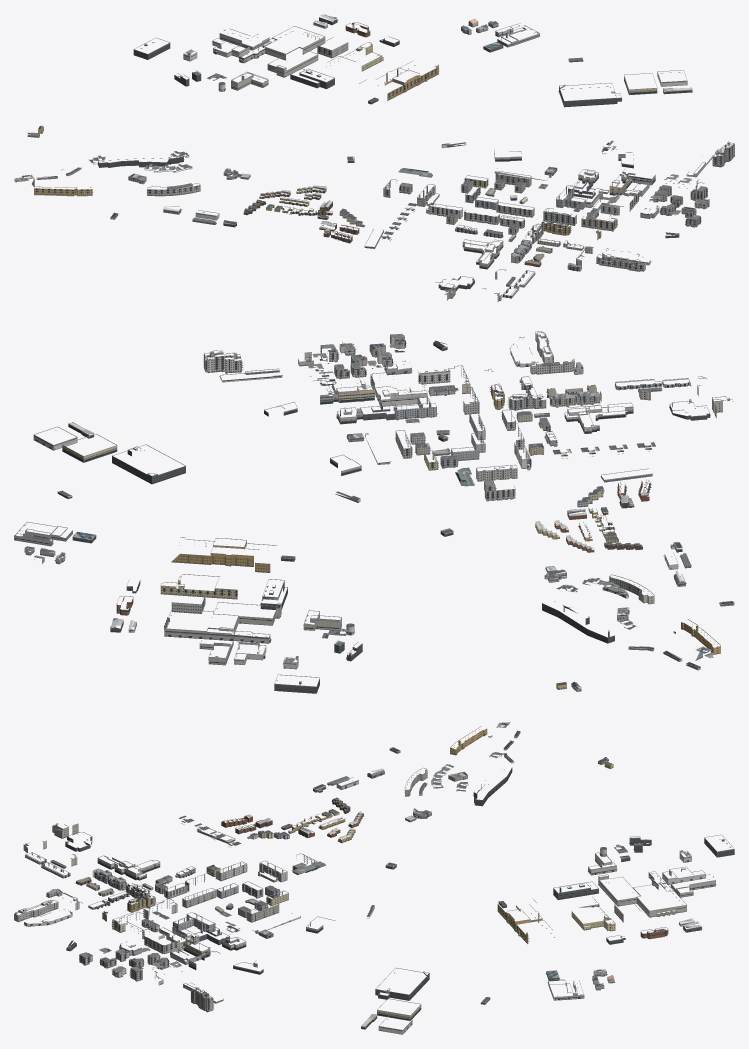
The model's file is district-near-1.glb.
3 views of the same model, one above another, from view 1: azimuth 30°, elevation 25°; view 2: azimuth 150°, elevation 25°; view 3: azimuth 270°, elevation 25° (orthographic). The views are drawn at different scales.
Bounding box in the file's own units: 1202 × 64.58 × 1201.
5 materials, 5 textured.
